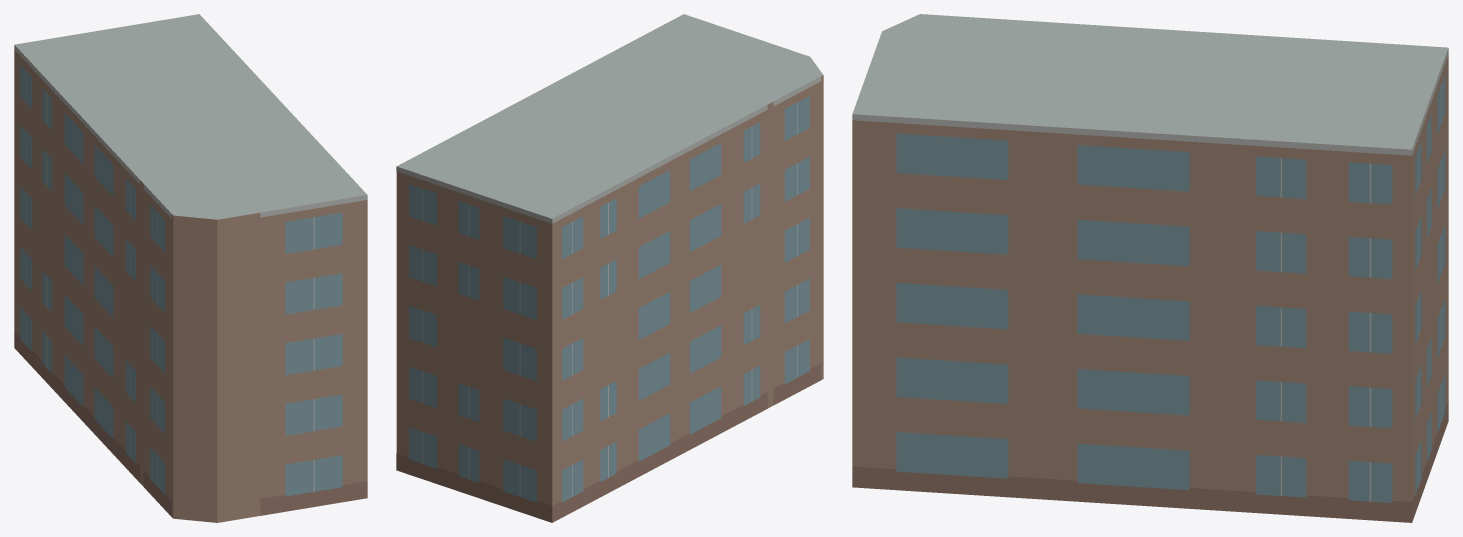
File: survey-upis-32969702.glb
The picture shows the model from 3 angles, left to right: view 1: azimuth 30°, elevation 25°; view 2: azimuth 150°, elevation 25°; view 3: azimuth 270°, elevation 25°; orthographic projection. The views are drawn at different scales.
Visible parts, largest first — view 1: survey-upis-32969702.tmp; view 2: survey-upis-32969702.tmp; view 3: survey-upis-32969702.tmp.
Boxes of the visible parts, bbox=[...] form: survey-upis-32969702.tmp: bbox=[14, 14, 367, 522]; survey-upis-32969702.tmp: bbox=[396, 14, 823, 522]; survey-upis-32969702.tmp: bbox=[852, 14, 1448, 522].
Size of the model in its own units: 11.67 by 14.95 by 21.66.
